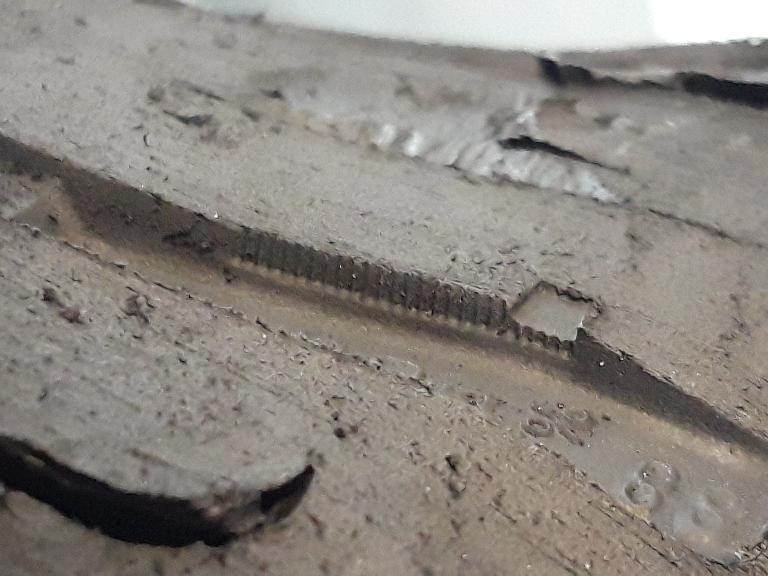temoin:25: (438, 247, 610, 374)
